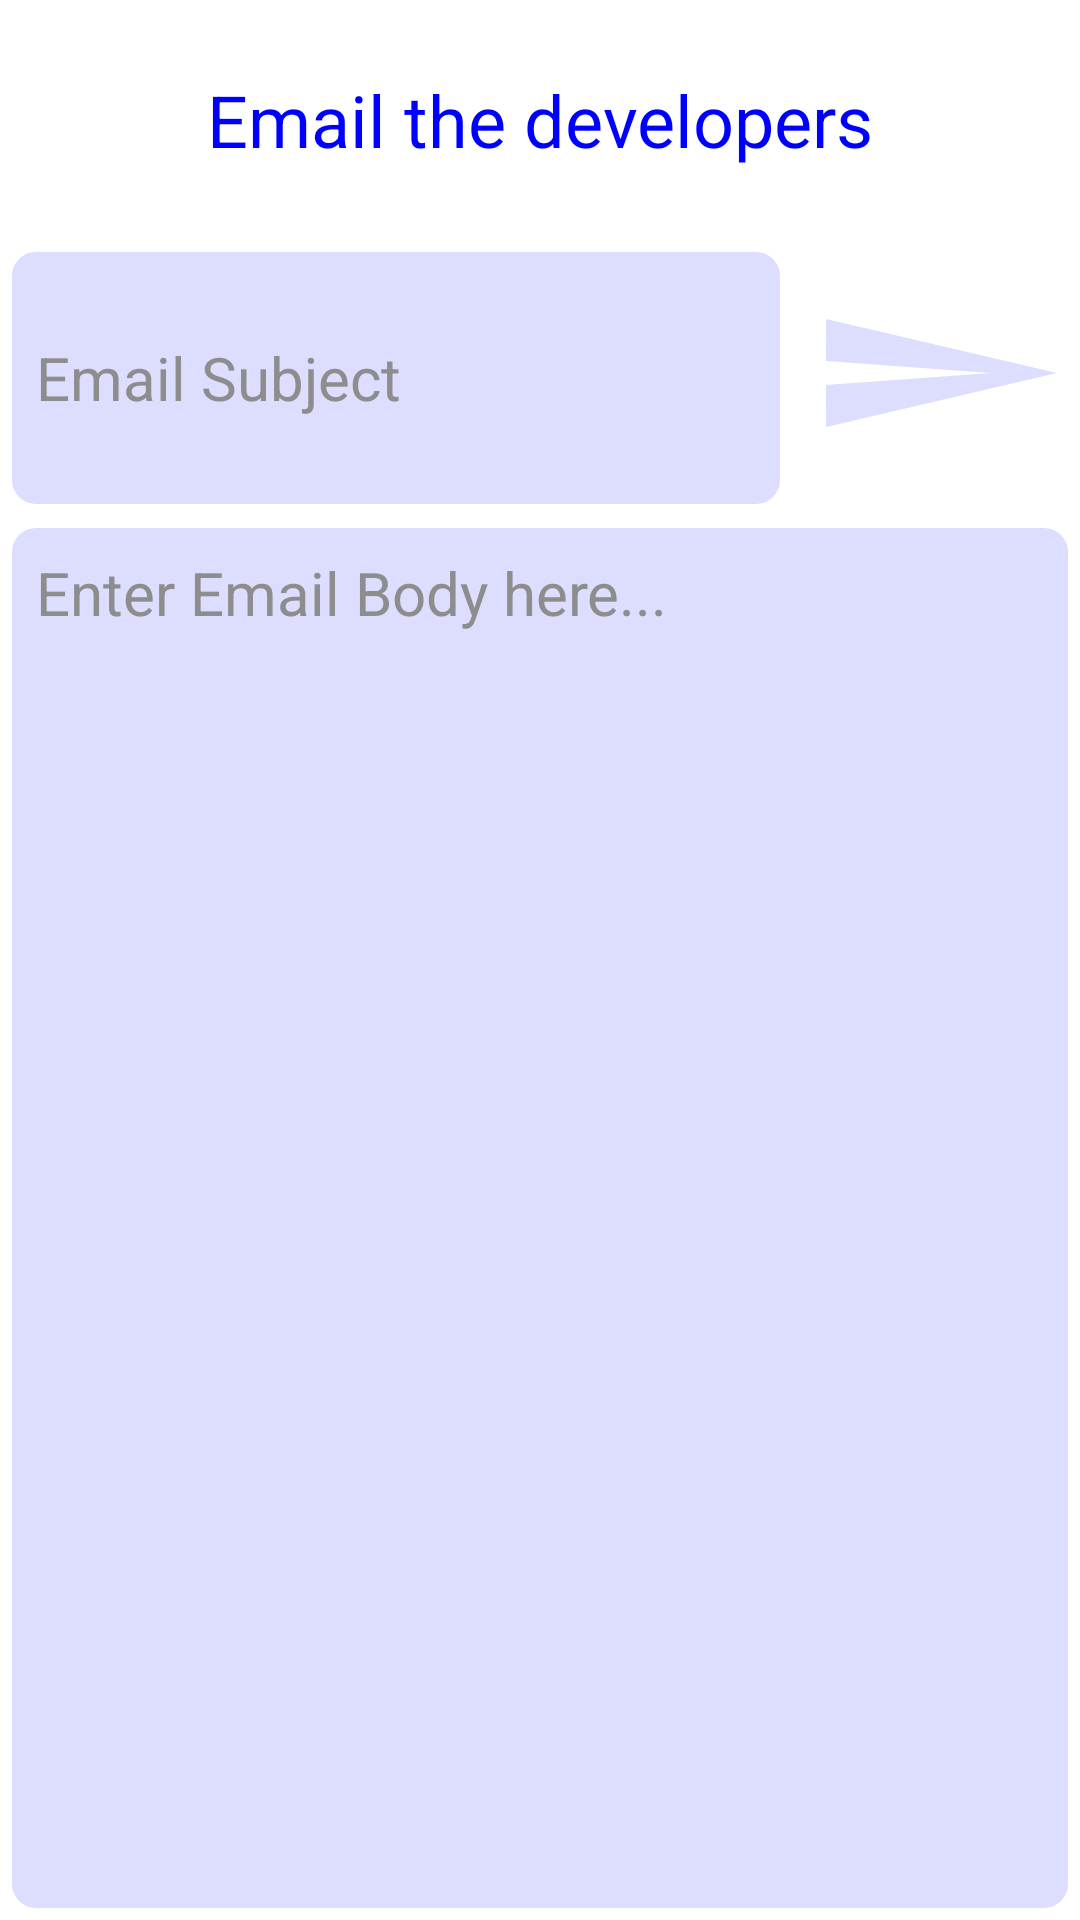

Where icons sit on this 1080×1920 app screen, as rect(x1, y1, x2, y2):
send: rect(826, 319, 1054, 427)
